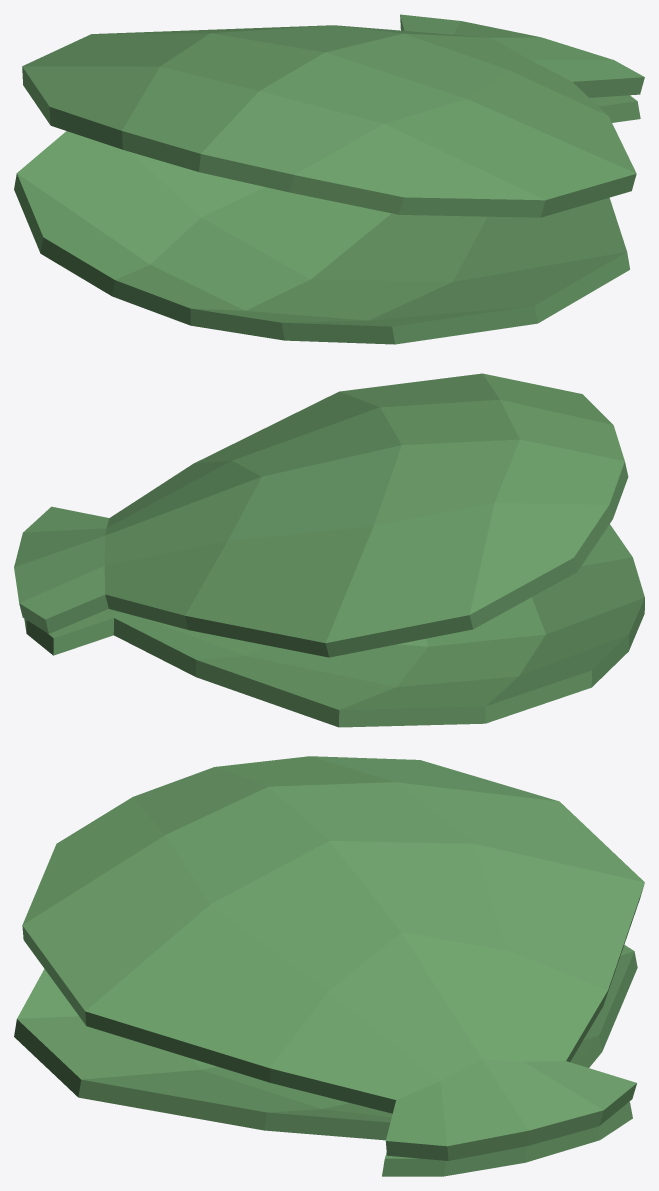
File: Otwarta.fbx
3 views of the same model, one above another, from view 1: azimuth 30°, elevation 25°; view 2: azimuth 150°, elevation 25°; view 3: azimuth 270°, elevation 25° (orthographic). The views are drawn at different scales.
Parts seen in each view (by area): view 1: Fan.003; view 2: Fan.003; view 3: Fan.003.
Boxes of the visible parts, <box> form: Fan.003: <box>14,14,644,344</box>; Fan.003: <box>14,373,644,727</box>; Fan.003: <box>14,756,644,1176</box>.
Size of the model in its own units: 223 by 86.68 by 206.
